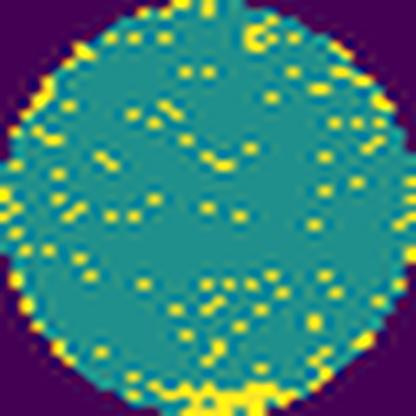Edge-Loc: (142, 378, 308, 416)
